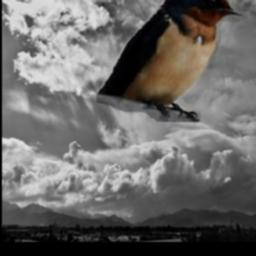Swallow: (96, 0, 245, 122)
